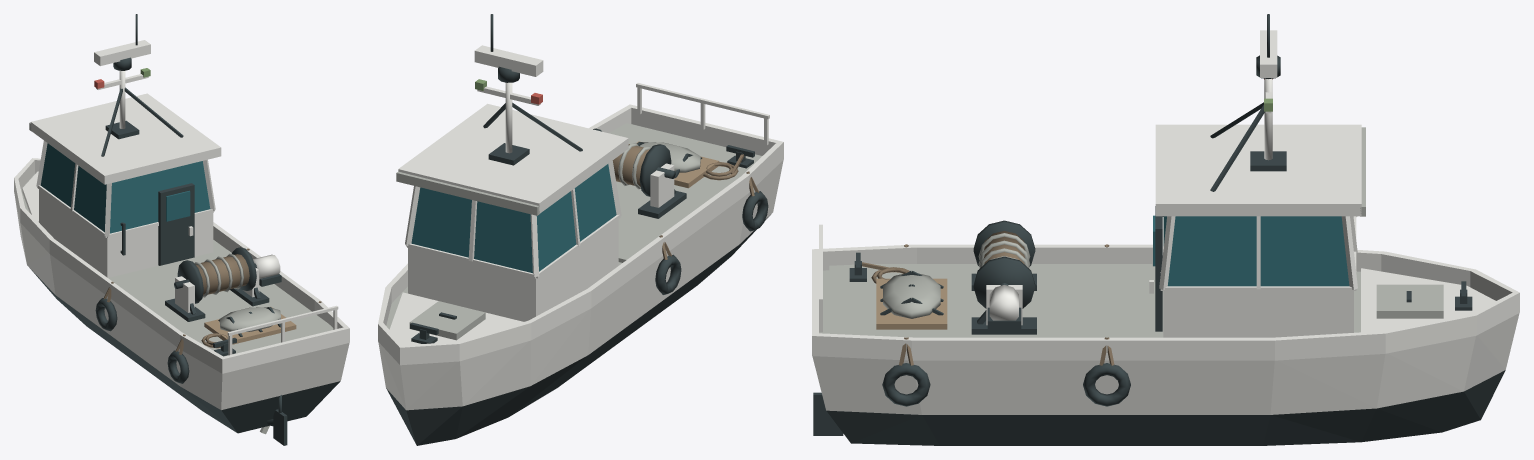
File: ENV_FishingBoat.fbx
3 renders of one model, left to right at view 1: azimuth 30°, elevation 25°; view 2: azimuth 150°, elevation 25°; view 3: azimuth 270°, elevation 25°, orthographic. The views are drawn at different scales.
Parts seen in each view (by area): view 1: ENV_FishingBoat_Root_Visual; view 2: ENV_FishingBoat_Root_Visual; view 3: ENV_FishingBoat_Root_Visual.
Boxes of the visible parts, x1,y1,x2,y2 form: ENV_FishingBoat_Root_Visual: (14, 14, 349, 445); ENV_FishingBoat_Root_Visual: (378, 14, 783, 445); ENV_FishingBoat_Root_Visual: (812, 14, 1519, 445).
Size of the model in its own units: 276 by 522 by 780.
